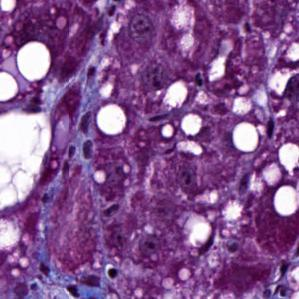ballooning: (3, 110, 54, 213)
